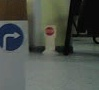right: (1, 21, 27, 53)
